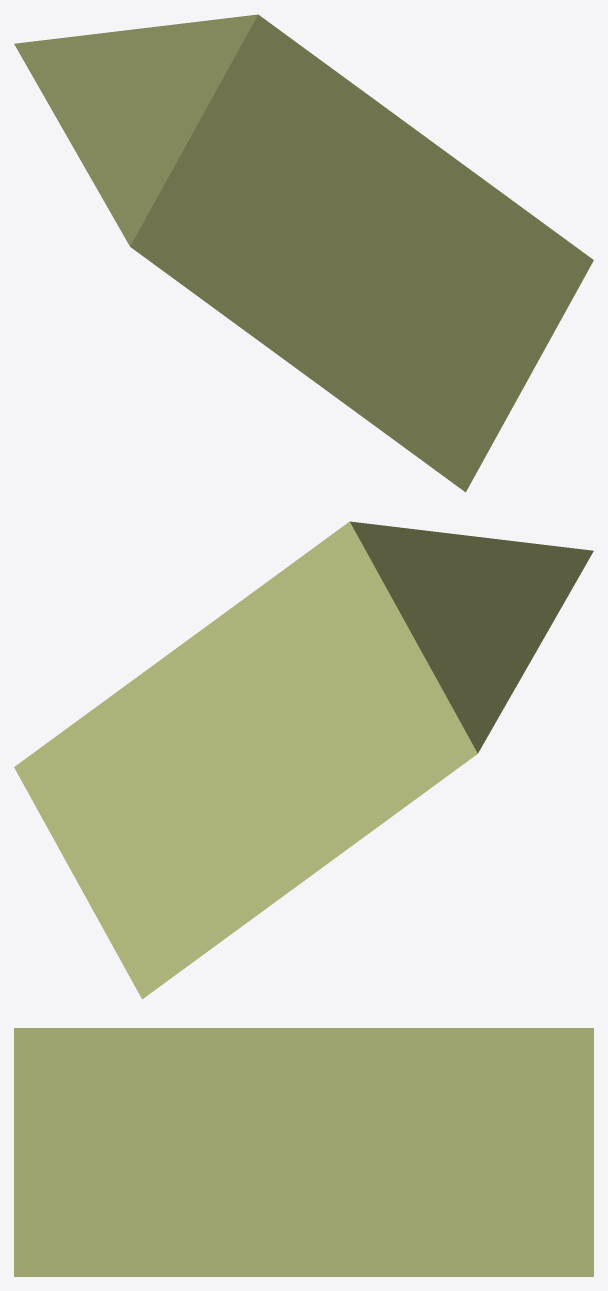
3 views of the same model, one above another, from view 1: azimuth 30°, elevation 25°; view 2: azimuth 150°, elevation 25°; view 3: azimuth 270°, elevation 25° (orthographic). The views are drawn at different scales.
Parts seen in each view (by area): view 1: 0_1_1_3_2_2_0_0_0_0_3; view 2: 0_1_1_3_2_2_0_0_0_0_3; view 3: 0_1_1_3_2_2_0_0_0_0_3.
Part boxes in pixels (x1,y1,x2,y2): 0_1_1_3_2_2_0_0_0_0_3: [14, 14, 593, 492]; 0_1_1_3_2_2_0_0_0_0_3: [14, 521, 593, 999]; 0_1_1_3_2_2_0_0_0_0_3: [14, 1028, 593, 1276].
Size of the model in its own units: 2.52 by 2.28 by 6.
